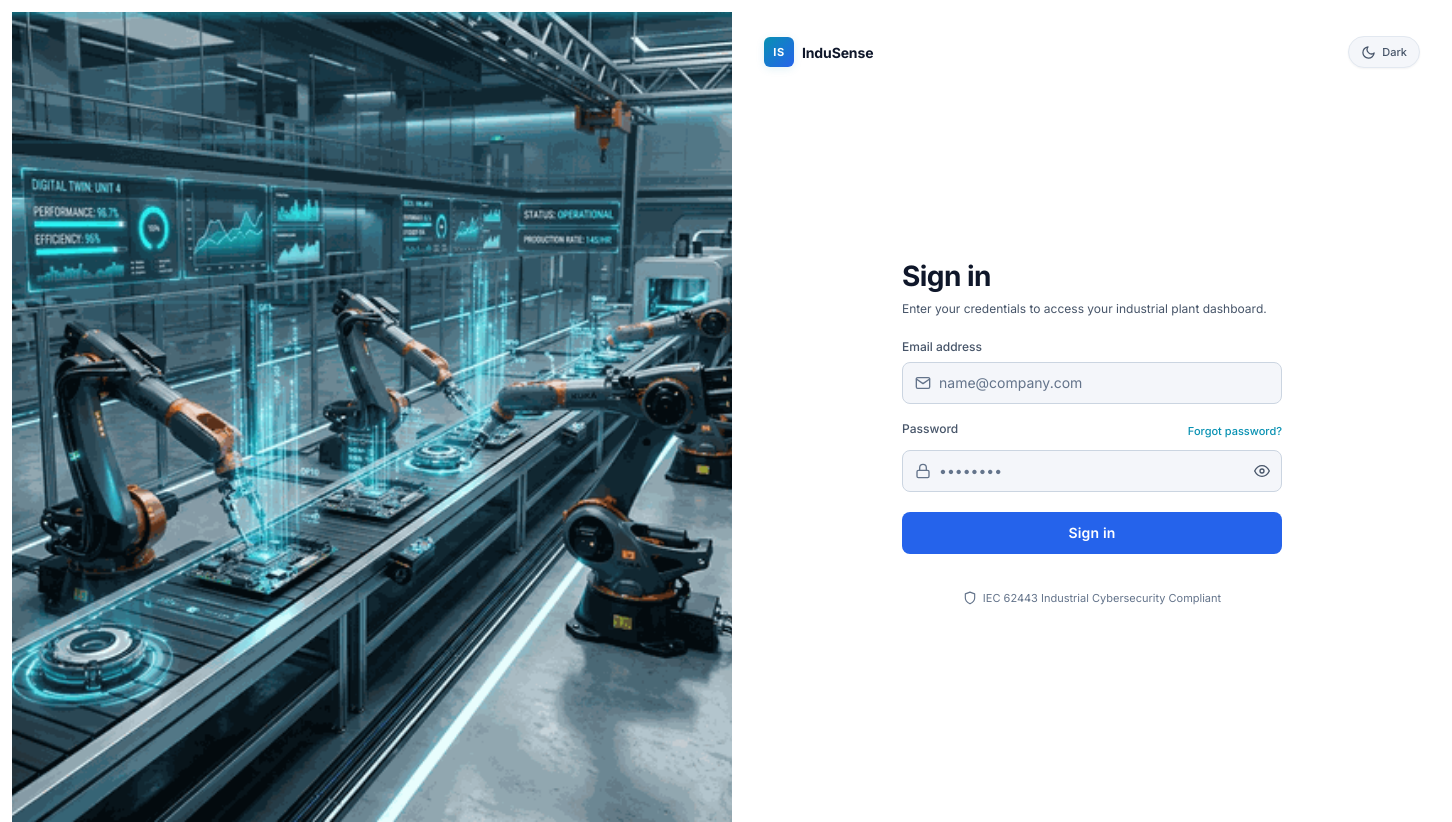
Test: LoginPageComponent › shows the rate-limit error with the retry delay
In the field with id "login-email": (1106, 382) [931,362,1281,402], type "locked@indusense.com"
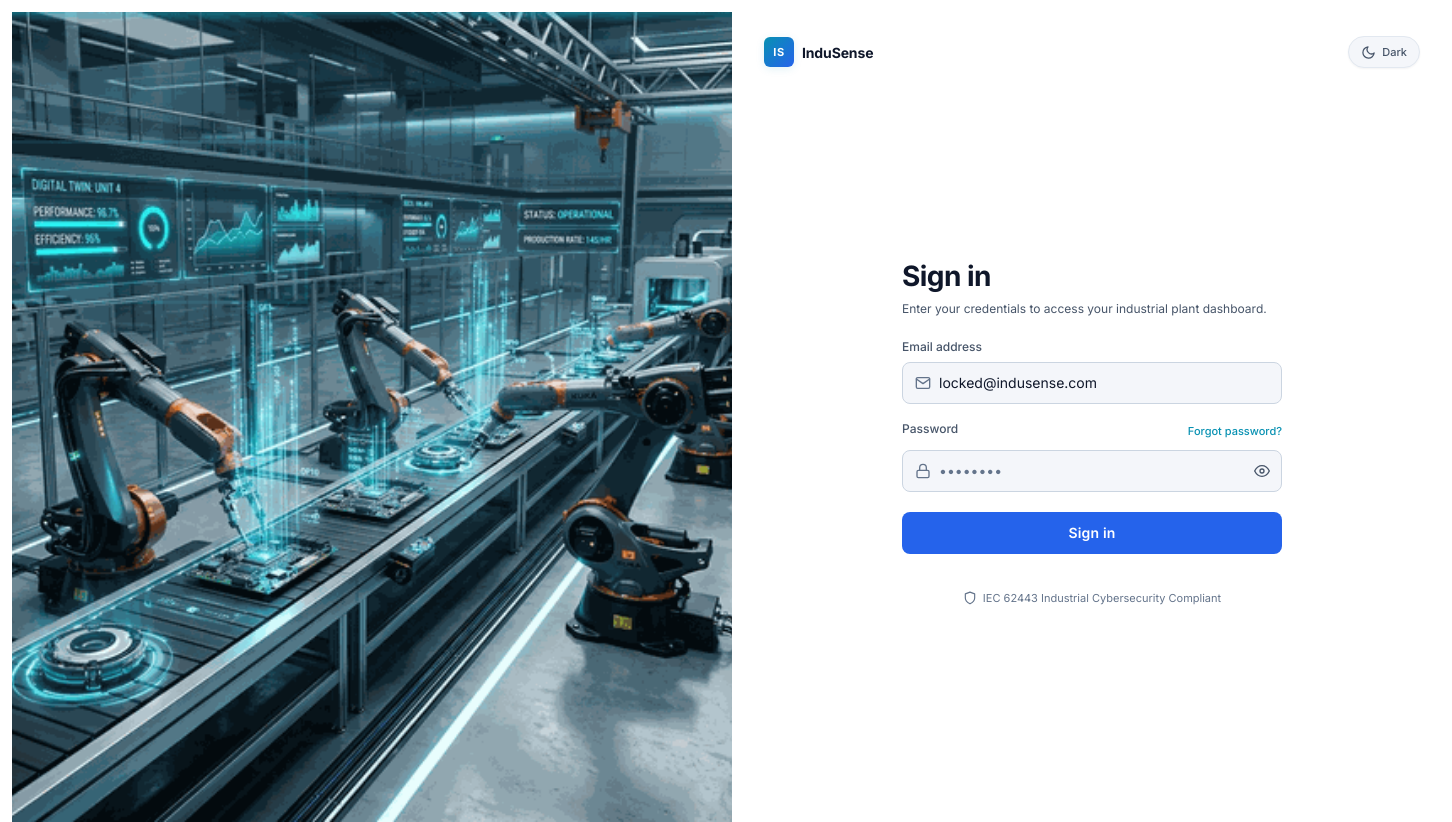
In the password field with id "login-password": (1087, 470) [931,450,1243,490], type "pw"
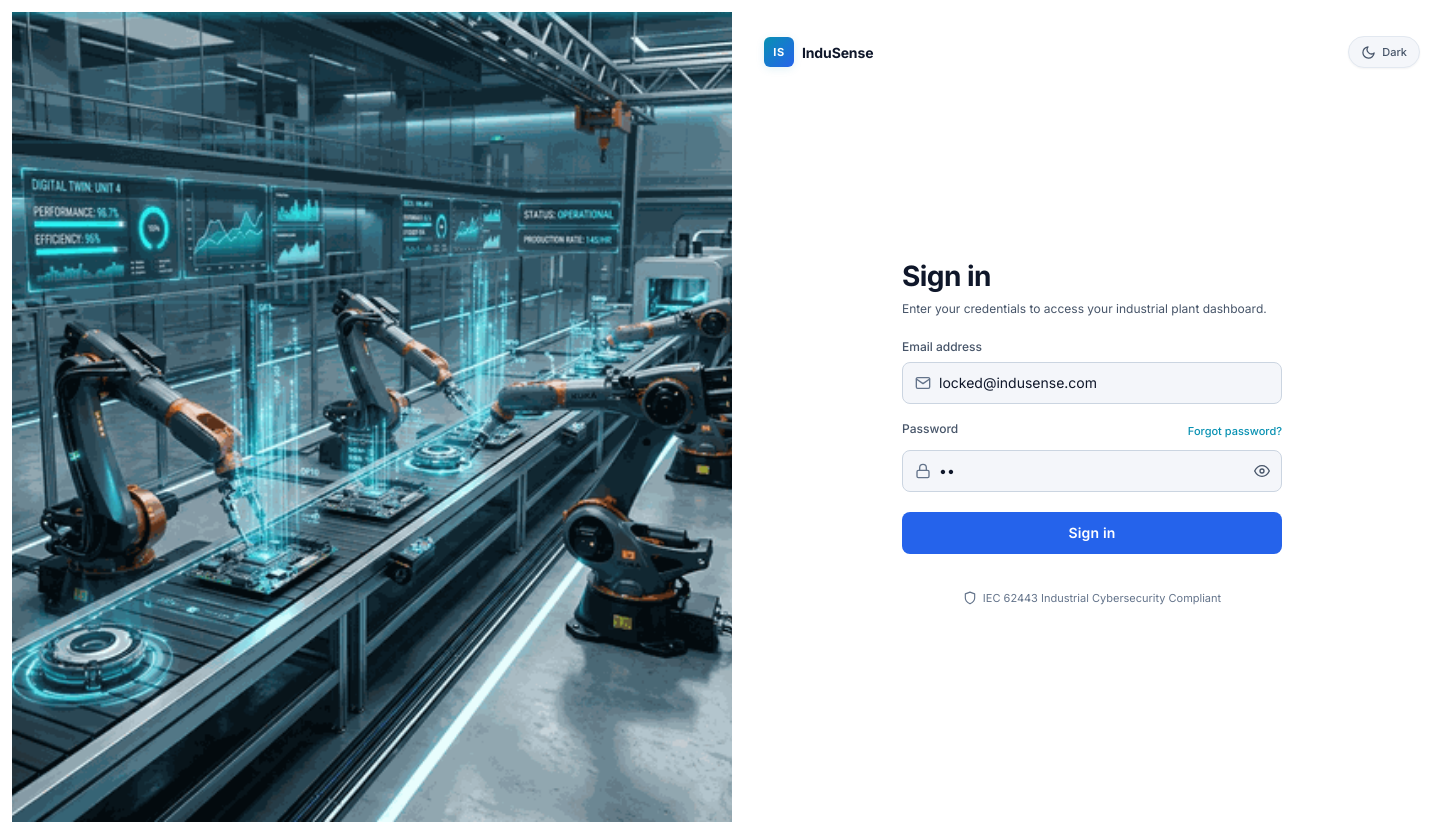
Click the submit button: click(1092, 532) [902,512,1282,554]
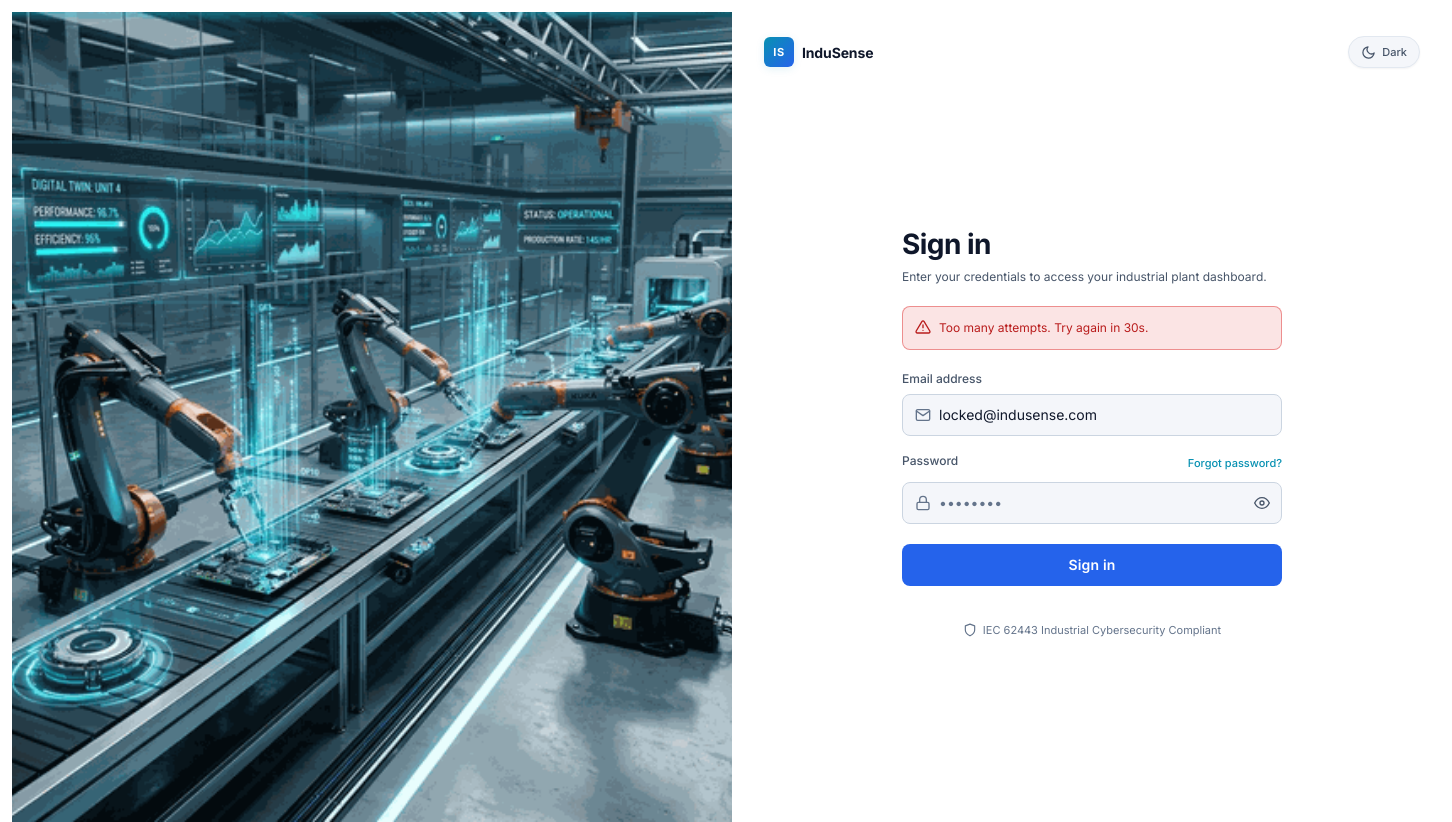
Expected: the text "Too many attempts. Try again in 30s." is shown, [939,318,1148,336]
